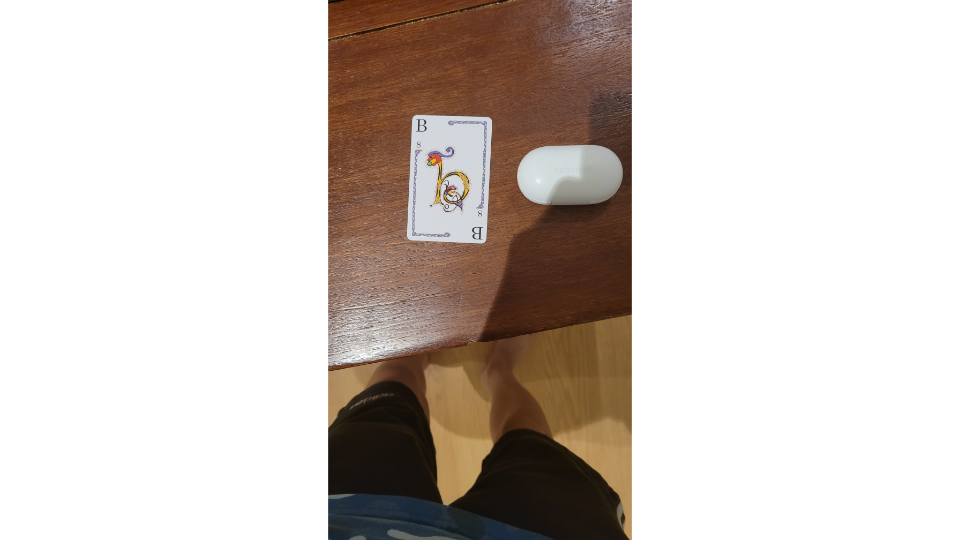B: (404, 110, 494, 247)
